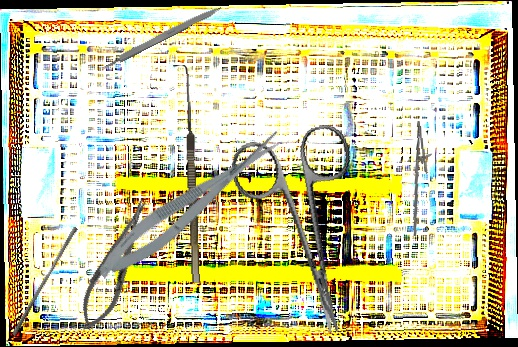Hook Surgical: (173, 64, 200, 284)
Iris Scissors: (225, 121, 389, 347)
Micro Scissor: (88, 124, 294, 287)
Needle Holder: (70, 193, 161, 338), (403, 120, 439, 236)
Pusher: (11, 224, 79, 339)
Scalpel Handle: (101, 2, 223, 71)
